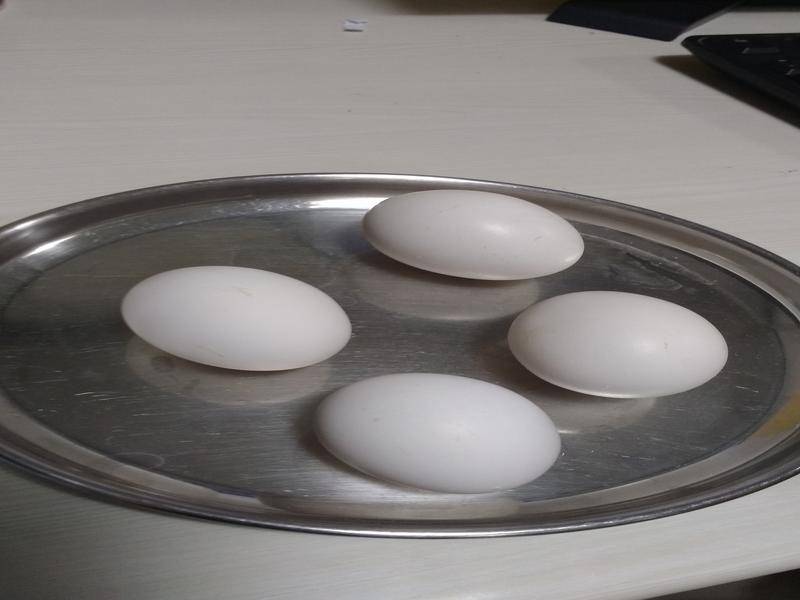egg: (122, 265, 350, 375)
